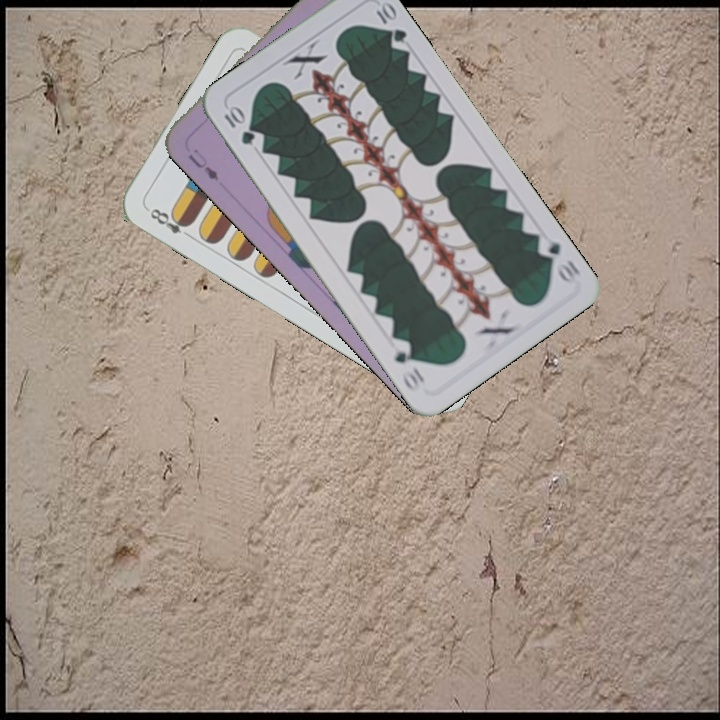E8: (146, 204, 195, 241)
EU: (184, 145, 221, 184)
G10: (533, 236, 584, 285), (220, 102, 258, 148)
